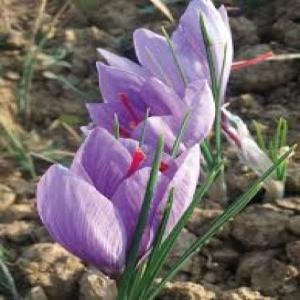Saffron: (40, 127, 202, 285), (97, 0, 233, 113), (95, 65, 215, 167)
